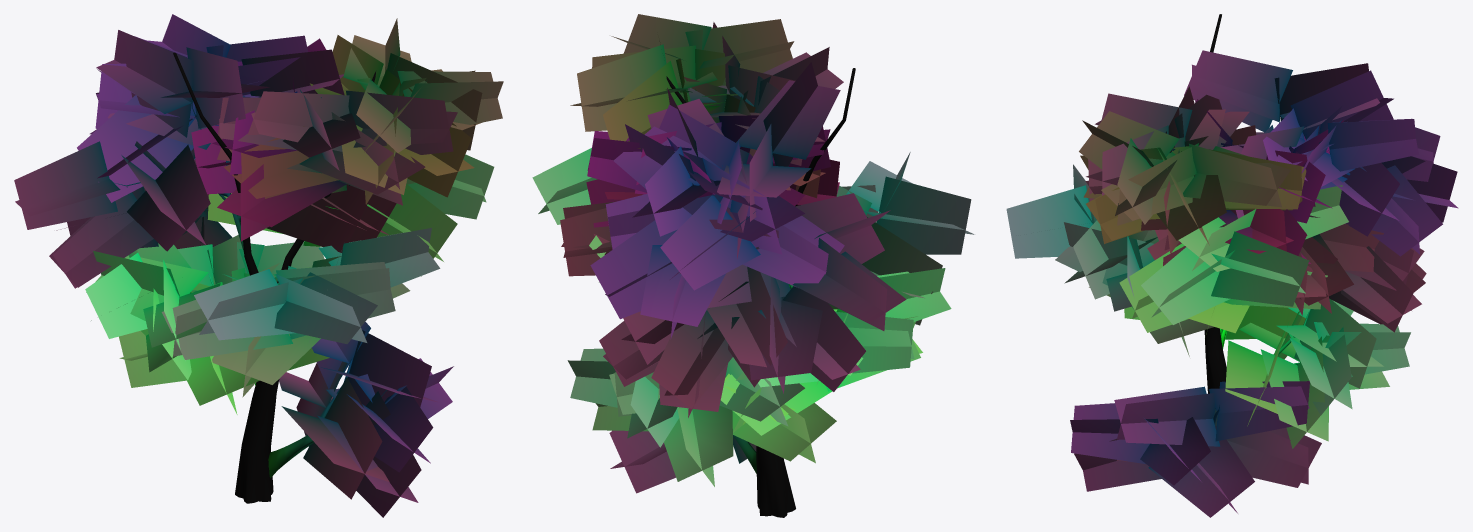
Rendered from M_Realistic12_8.fbx.
3 renders of one model, left to right at view 1: azimuth 30°, elevation 25°; view 2: azimuth 150°, elevation 25°; view 3: azimuth 270°, elevation 25°, orthographic. The views are drawn at different scales.
Parts seen in each view (by area): view 1: Tree_8; view 2: Tree_8; view 3: Tree_8.
Part boxes in pixels (x1=…): Tree_8: x1=14, y1=14, x2=503, y2=517; Tree_8: x1=532, y1=14, x2=974, y2=517; Tree_8: x1=1006, y1=14, x2=1458, y2=517.
Size of the model in its own units: 1346 by 1524 by 1487.
